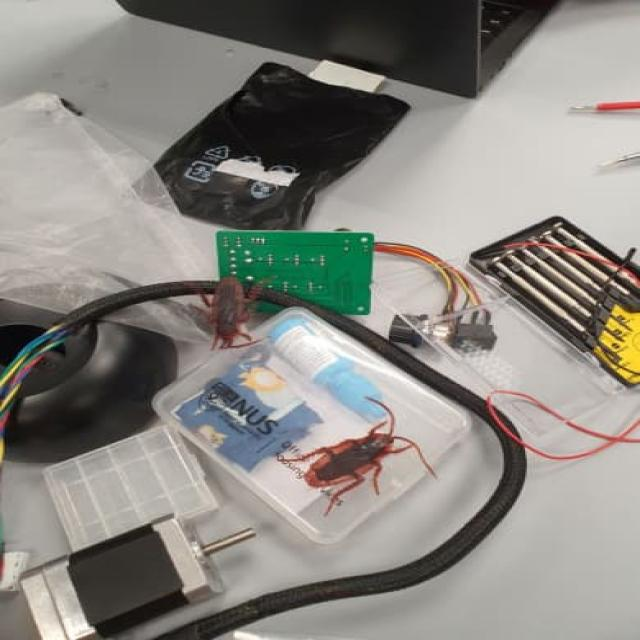Cockroach: (284, 399, 433, 511), (174, 270, 281, 354)
